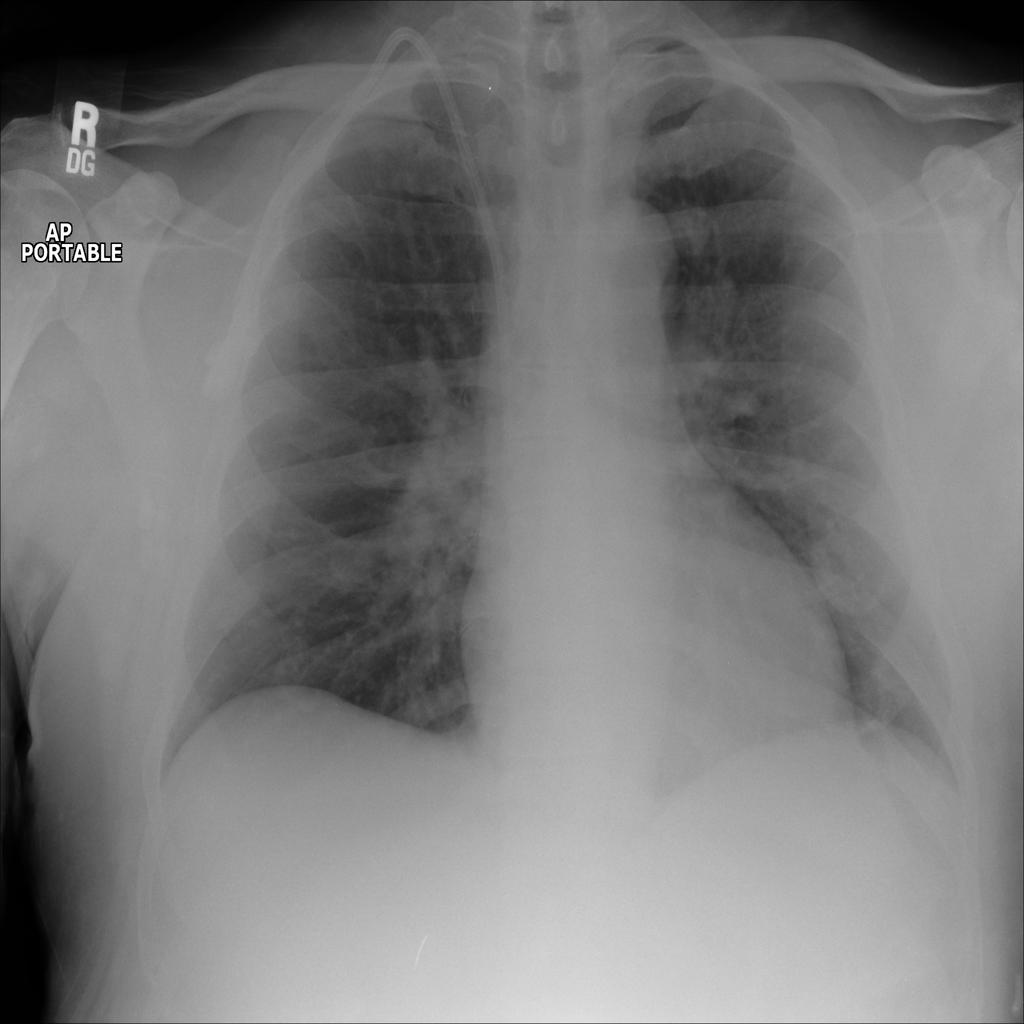nodule: (657, 187, 727, 266)
